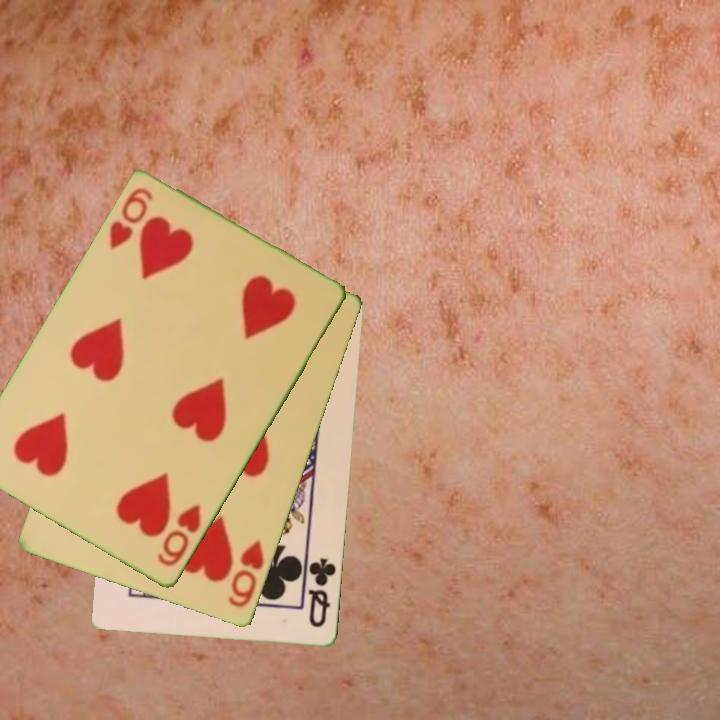6h: (105, 184, 157, 253), (154, 501, 205, 570), (225, 537, 268, 611)
Qc: (305, 555, 339, 631)
